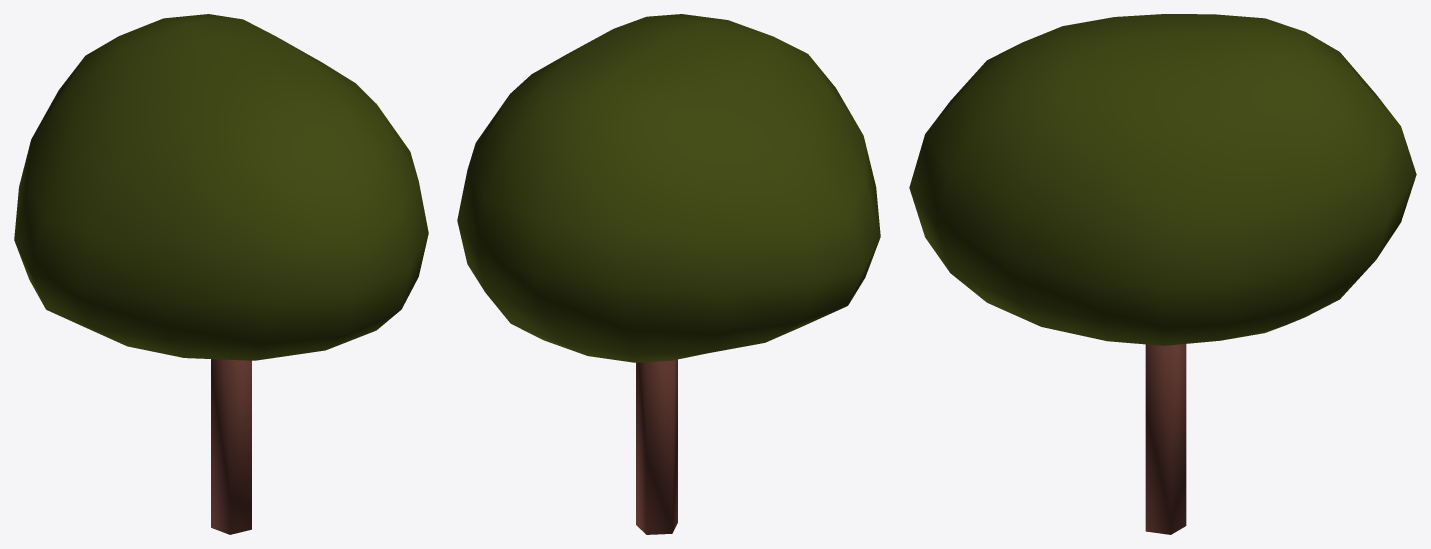
The model's file is tree_test.fbx.
3 views of the same model, side by side, from view 1: azimuth 30°, elevation 25°; view 2: azimuth 150°, elevation 25°; view 3: azimuth 270°, elevation 25° (orthographic). The views are drawn at different scales.
Visible parts, largest first — view 1: Cylinder; view 2: Cylinder; view 3: Cylinder.
Boxes of the visible parts, left/top/right/bottom form: Cylinder: left=14, top=14, right=428, bottom=534; Cylinder: left=457, top=14, right=880, bottom=534; Cylinder: left=909, top=14, right=1416, bottom=534.
Bounding box in the file's own units: 10.24 × 12.41 × 11.62.
